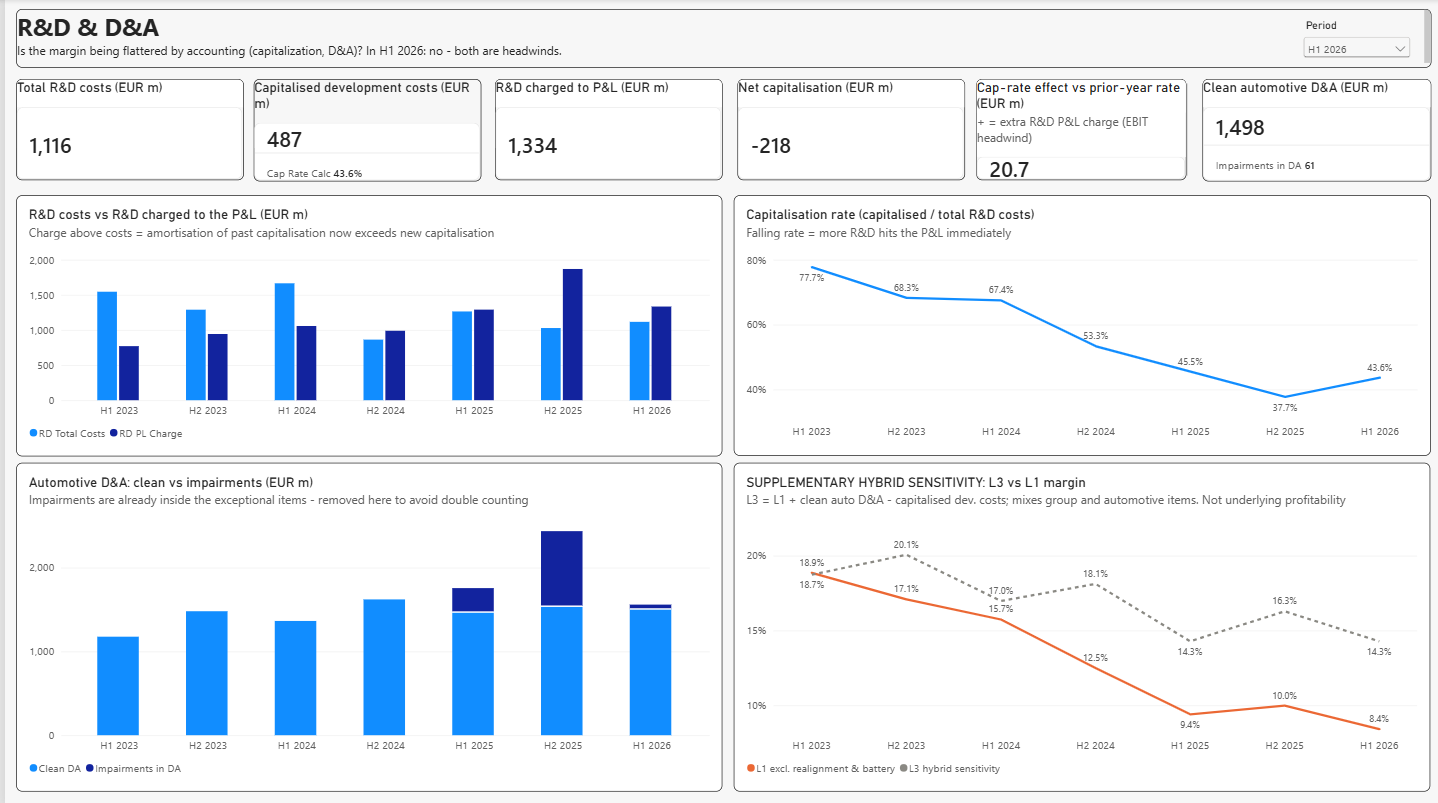

The dashboard page shown, as its layout file describes it:
{"tool":"powerbi","page":{"name":"3 R&D & D&A","canvas":[1920,1080],"ordinal":2},"visuals":[{"type":"textbox","box":[15,13.4,1890.2,78.5],"z":0},{"type":"slicer","fields":{"Values":["DimPeriod.period_label"]},"box":[1729.9,26.7,151.9,55.1],"z":1000},{"type":"cardVisual","title":"Total R&D costs (EUR m)","fields":{"Data":["FactHalfYear.RD Total Costs"]},"box":[15,106.9,303.9,135.3],"z":2000},{"type":"cardVisual","title":"Capitalised development costs (EUR m)","fields":{"Data":["FactHalfYear.Capitalised Dev Costs"]},"box":[332.3,106.9,303.9,136.9],"z":3000},{"type":"cardVisual","title":"R&D charged to P&L (EUR m)","fields":{"Data":["FactHalfYear.RD PL Charge"]},"box":[654.5,106.9,303.9,135.3],"z":4000},{"type":"cardVisual","title":"Net capitalisation (EUR m)","fields":{"Data":["FactHalfYear.Net Capitalisation"]},"box":[978.5,106.9,303.9,135.3],"z":5000},{"type":"cardVisual","title":"Cap-rate effect vs prior-year rate (EUR m)","fields":{"Data":["FactHalfYear.Cap Rate Effect (SQL)"]},"box":[1297.4,106.9,280.5,135.3],"z":6000},{"type":"cardVisual","title":"Clean automotive D&A (EUR m)","fields":{"Data":["FactHalfYear.Clean DA"]},"box":[1599.6,106.9,305.6,136.9],"z":7000},{"type":"clusteredColumnChart","title":"R&D costs vs R&D charged to the P&L (EUR m)","fields":{"Category":["DimPeriod.period_label"],"Y":["FactHalfYear.RD Total Costs","FactHalfYear.RD PL Charge"]},"box":[15,262.2,943.4,349],"z":8000},{"type":"lineChart","title":"Capitalisation rate (capitalised / total R&D costs)","fields":{"Category":["DimPeriod.period_label"],"Y":["FactHalfYear.Cap Rate Calc"]},"box":[973.2,262.3,931,348],"z":9000},{"type":"columnChart","title":"Automotive D&A: clean vs impairments (EUR m)","fields":{"Category":["DimPeriod.period_label"],"Y":["FactHalfYear.Clean DA","FactHalfYear.Impairments in DA"]},"box":[15,619.5,943.4,439.1],"z":10000},{"type":"lineChart","title":"SUPPLEMENTARY HYBRID SENSITIVITY: L3 vs L1 margin","fields":{"Category":["DimPeriod.period_label"],"Series":["DimLevel.level_name"],"Y":["FactHalfYear.Margin by Level"]},"box":[973.5,619.5,930.1,439.1],"z":11000}]}

Visuals, with their boxes in screenshot pixels (x1, y1, x2, y2), scaled from the page's 1920x1080 canvas onto the 1438x803 screenshot:
textbox: Rect(11, 10, 1427, 68)
slicer - DimPeriod.period_label: Rect(1296, 20, 1409, 61)
"Total R&D costs (EUR m)" cardVisual: Rect(11, 79, 239, 180)
"Capitalised development costs (EUR m)" cardVisual: Rect(249, 79, 476, 181)
"R&D charged to P&L (EUR m)" cardVisual: Rect(490, 79, 718, 180)
"Net capitalisation (EUR m)" cardVisual: Rect(733, 79, 960, 180)
"Cap-rate effect vs prior-year rate (EUR m)" cardVisual: Rect(972, 79, 1182, 180)
"Clean automotive D&A (EUR m)" cardVisual: Rect(1198, 79, 1427, 181)
"R&D costs vs R&D charged to the P&L (EUR m)" clusteredColumnChart: Rect(11, 195, 718, 454)
"Capitalisation rate (capitalised / total R&D costs)" lineChart: Rect(729, 195, 1426, 454)
"Automotive D&A: clean vs impairments (EUR m)" columnChart: Rect(11, 461, 718, 787)
"SUPPLEMENTARY HYBRID SENSITIVITY: L3 vs L1 margin" lineChart: Rect(729, 461, 1426, 787)
